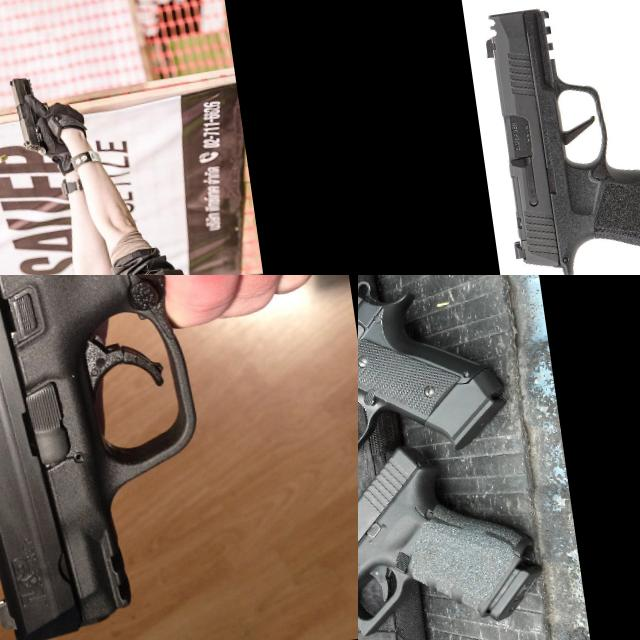handgun: (0, 275, 358, 640), (476, 0, 640, 275), (358, 426, 552, 640), (358, 275, 516, 479), (6, 72, 52, 162)
